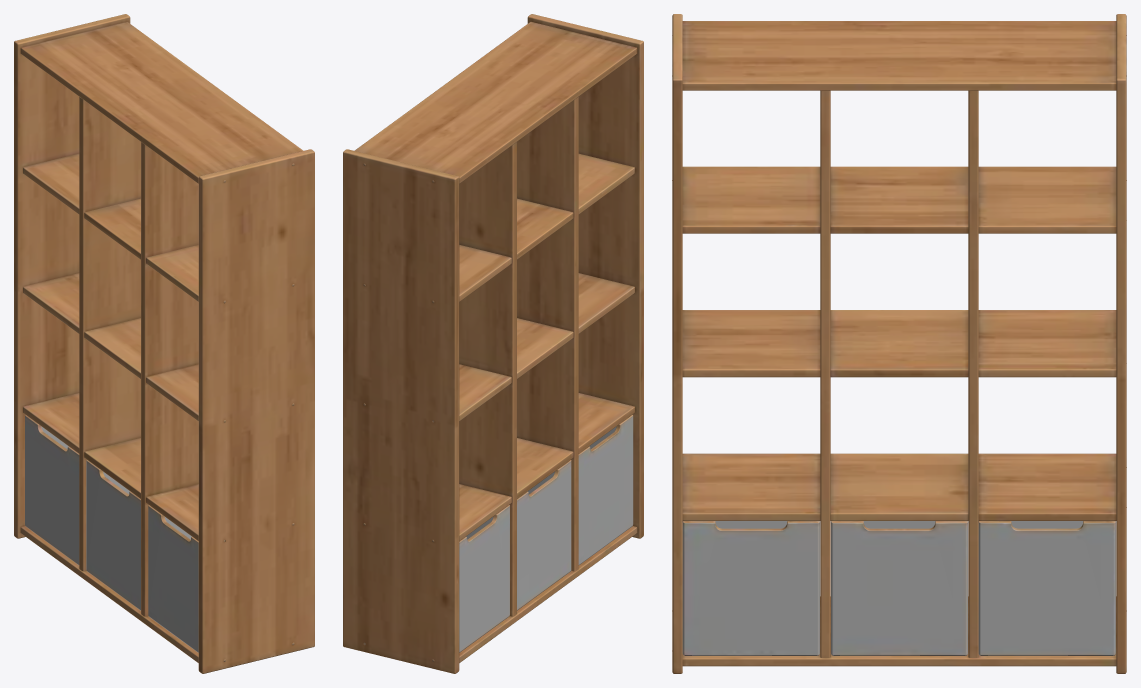
Rendered from wooden_display_shelves_01.glb.
3 views of the same model, side by side, from view 1: azimuth 30°, elevation 25°; view 2: azimuth 150°, elevation 25°; view 3: azimuth 270°, elevation 25° (orthographic). The views are drawn at different scales.
Parts seen in each view (by area): view 1: wooden_display_shelves_01; view 2: wooden_display_shelves_01; view 3: wooden_display_shelves_01.
Boxes of the visible parts, x1=… form: wooden_display_shelves_01: x1=14, y1=14, x2=314, y2=673; wooden_display_shelves_01: x1=343, y1=14, x2=643, y2=673; wooden_display_shelves_01: x1=672, y1=14, x2=1126, y2=673.
Size of the model in its own units: 0.3714 by 1.56 by 1.08.
1 material, 1 textured.
